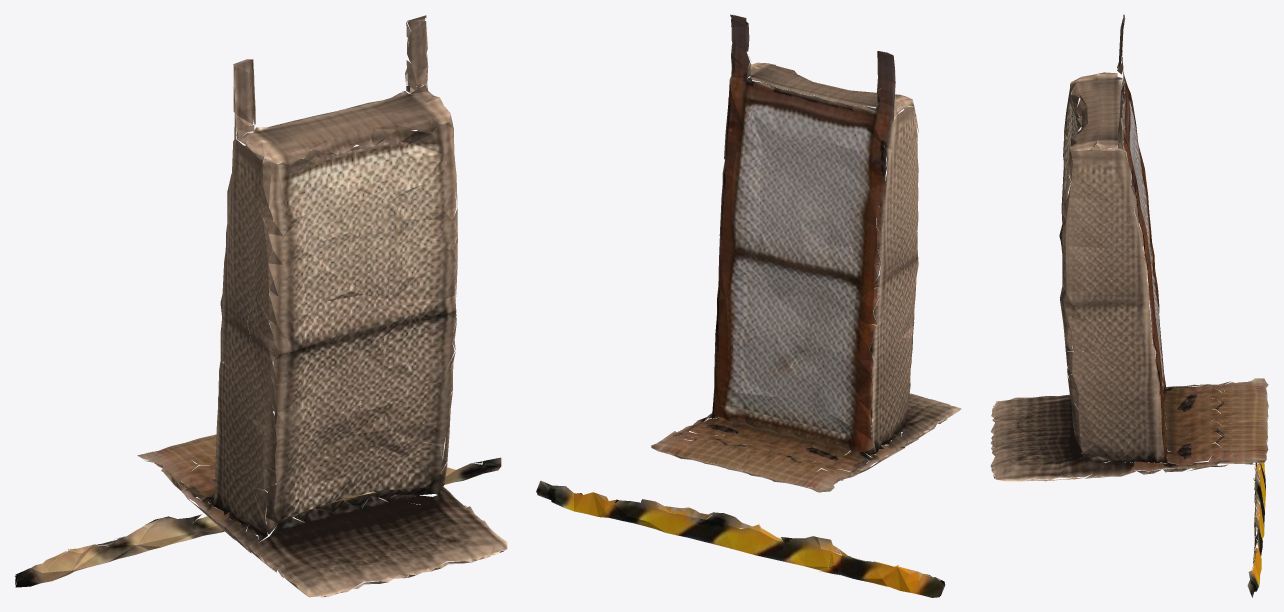
File: door.glb
3 renders of one model, left to right at view 1: azimuth 30°, elevation 25°; view 2: azimuth 150°, elevation 25°; view 3: azimuth 270°, elevation 25°, orthographic. The views are drawn at different scales.
Parts seen in each view (by area): view 1: world; view 2: world; view 3: world.
Boxes of the visible parts, x1,y1,x2,y2 form: world: (15, 15, 507, 597); world: (536, 14, 961, 597); world: (990, 14, 1268, 597).
Bounding box in the file's own units: 0.7656 × 0.834 × 0.4659.
1 material, 1 textured.
